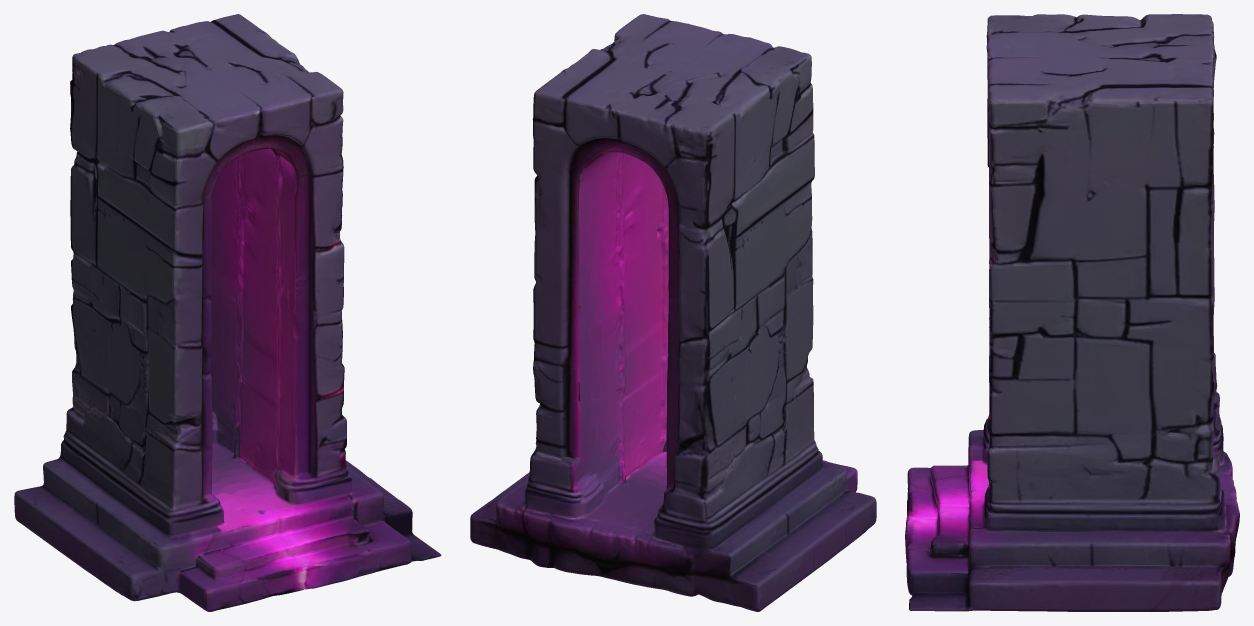
File: solitude-pillar-12-generated-2026-04-19T23-57-40-585Z.medium.glb
3 renders of one model, left to right at view 1: azimuth 30°, elevation 25°; view 2: azimuth 150°, elevation 25°; view 3: azimuth 270°, elevation 25°, orthographic. The views are drawn at different scales.
Parts seen in each view (by area): view 1: temp_mesh.ply; view 2: temp_mesh.ply; view 3: temp_mesh.ply.
Boxes of the visible parts, x1=… form: temp_mesh.ply: x1=14, y1=14, x2=441, y2=611; temp_mesh.ply: x1=470, y1=14, x2=876, y2=611; temp_mesh.ply: x1=905, y1=14, x2=1239, y2=611.
Size of the model in its own units: 1.28 by 1.97 by 1.24.
1 material, 1 textured.
